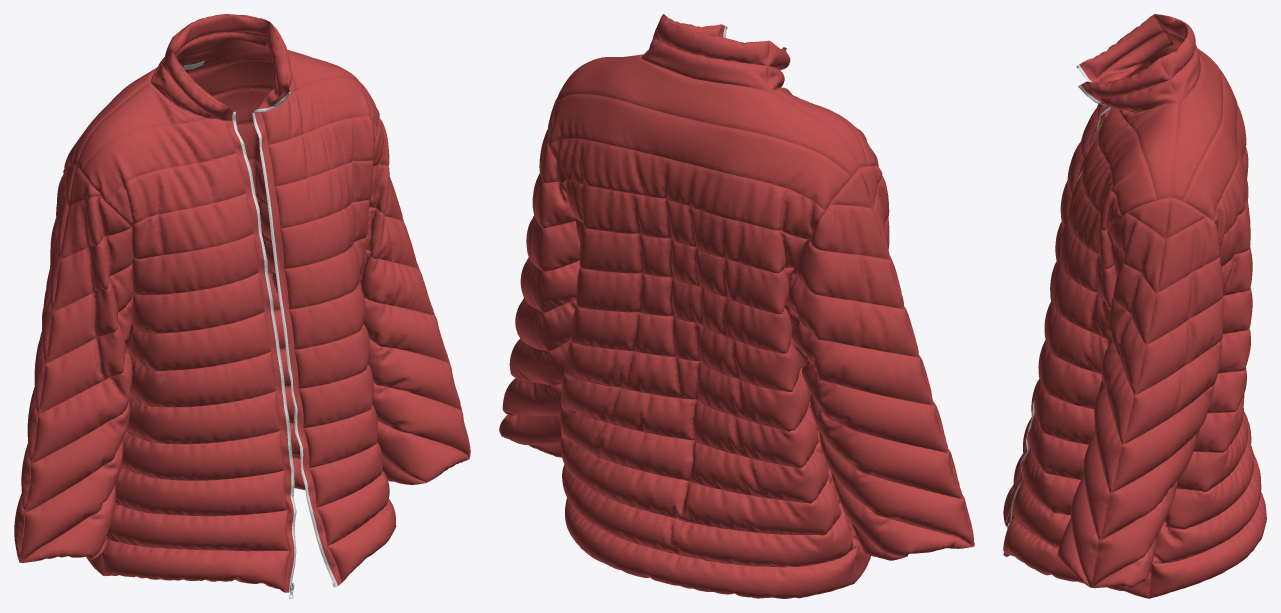
Rendered from down_jacket.glb.
3 renders of one model, left to right at view 1: azimuth 30°, elevation 25°; view 2: azimuth 150°, elevation 25°; view 3: azimuth 270°, elevation 25°, orthographic. The views are drawn at different scales.
Parts seen in each view (by area): view 1: Pattern_354309, Pattern_354324, Pattern_354322, Pattern_354323, Pattern_354321, Pattern_354320, Pattern_354306, Pattern_354319, Pattern_354325, Pattern_354326, Pattern_354304, Pattern_354305 (+48 smaller); view 2: Pattern_354289, Pattern_354290, Pattern_354263, Pattern_354298, Pattern_354297, Pattern_354299, Pattern_354296, Pattern_354291, Pattern_354295, Pattern_354300, Pattern_354294, Pattern_354293 (+22 smaller); view 3: Pattern_354263, Pattern_486403, Pattern_354300, Pattern_486404, Pattern_486402, Pattern_354299, Pattern_354307, Pattern_354289, Pattern_486405, Pattern_486401, Pattern_354298, Pattern_354308 (+43 smaller).
Boxes of the visible parts, x1,y1,x2,y2 form: Pattern_354309: [82, 118, 237, 201]; Pattern_354324: [107, 504, 289, 550]; Pattern_354322: [115, 467, 287, 515]; Pattern_354323: [101, 540, 289, 592]; Pattern_354321: [121, 430, 284, 480]; Pattern_354320: [126, 391, 280, 443]; Pattern_354306: [106, 153, 246, 226]; Pattern_354319: [129, 351, 276, 407]; Pattern_354325: [125, 311, 271, 371]; Pattern_354326: [132, 272, 264, 333]; Pattern_354304: [131, 193, 254, 258]; Pattern_354305: [132, 233, 259, 294]; Pattern_354289: [549, 94, 850, 210]; Pattern_354290: [549, 138, 825, 238]; Pattern_354263: [556, 57, 858, 177]; Pattern_354298: [560, 434, 843, 534]; Pattern_354297: [560, 405, 829, 503]; Pattern_354299: [562, 464, 857, 567]; Pattern_354296: [560, 374, 819, 468]; Pattern_354291: [559, 179, 810, 273]; Pattern_354295: [564, 342, 810, 431]; Pattern_354300: [565, 498, 857, 598]; Pattern_354294: [570, 306, 801, 391]; Pattern_354293: [576, 267, 792, 353]; Pattern_354263: [1171, 49, 1222, 200]; Pattern_486403: [1123, 340, 1221, 444]; Pattern_354300: [1149, 492, 1266, 598]; Pattern_486404: [1111, 385, 1213, 492]; Pattern_486402: [1135, 298, 1223, 394]; Pattern_354299: [1152, 454, 1261, 563]; Pattern_354307: [1098, 108, 1156, 215]; Pattern_354289: [1183, 69, 1237, 220]; Pattern_486405: [1099, 429, 1199, 540]; Pattern_486401: [1146, 256, 1223, 344]; Pattern_354298: [1163, 411, 1254, 528]; Pattern_354308: [1119, 102, 1177, 199].
Size of the model in its own units: 7.24 by 7.98 by 3.75.
6 materials, 4 textured.
